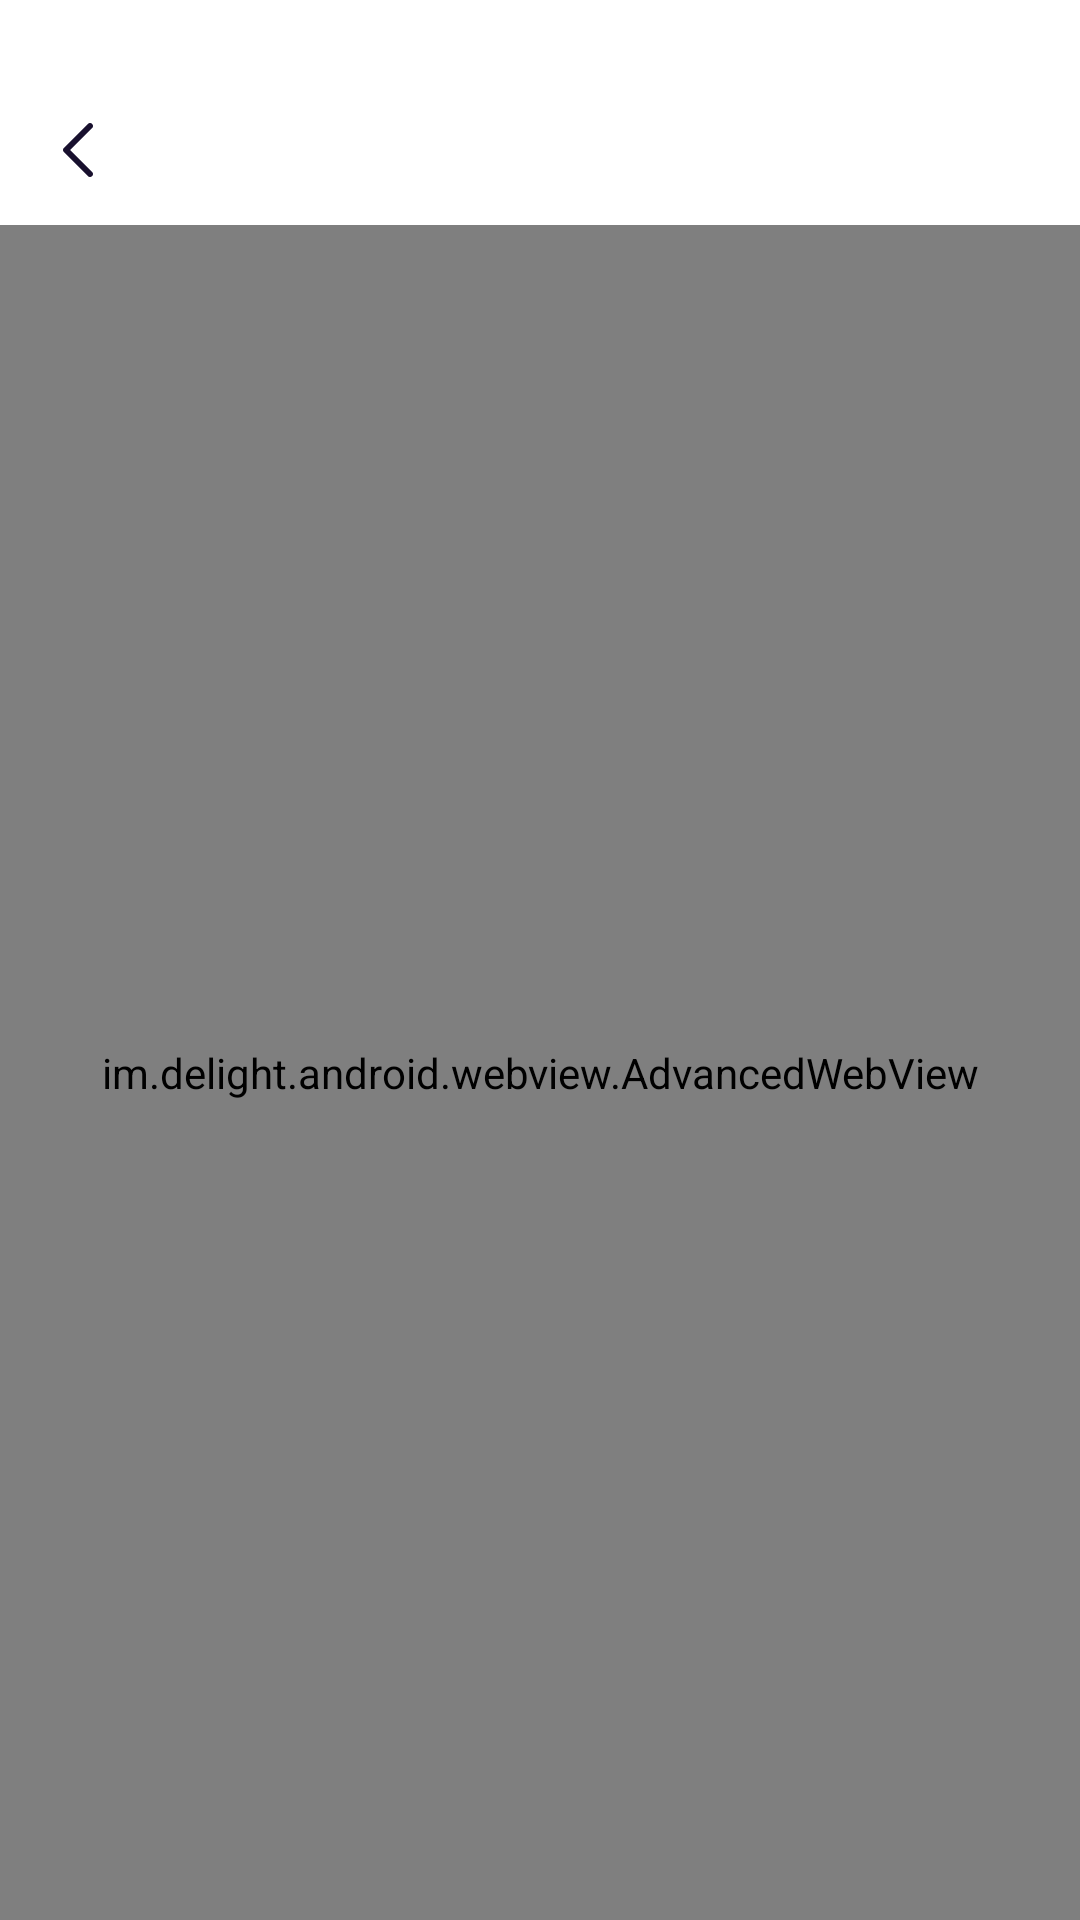

Locate icon controls on the screen. Image size 1080px x 1920px, boxes as (x1, y1, x2, y2).
back arrow: (63, 123, 93, 177)
